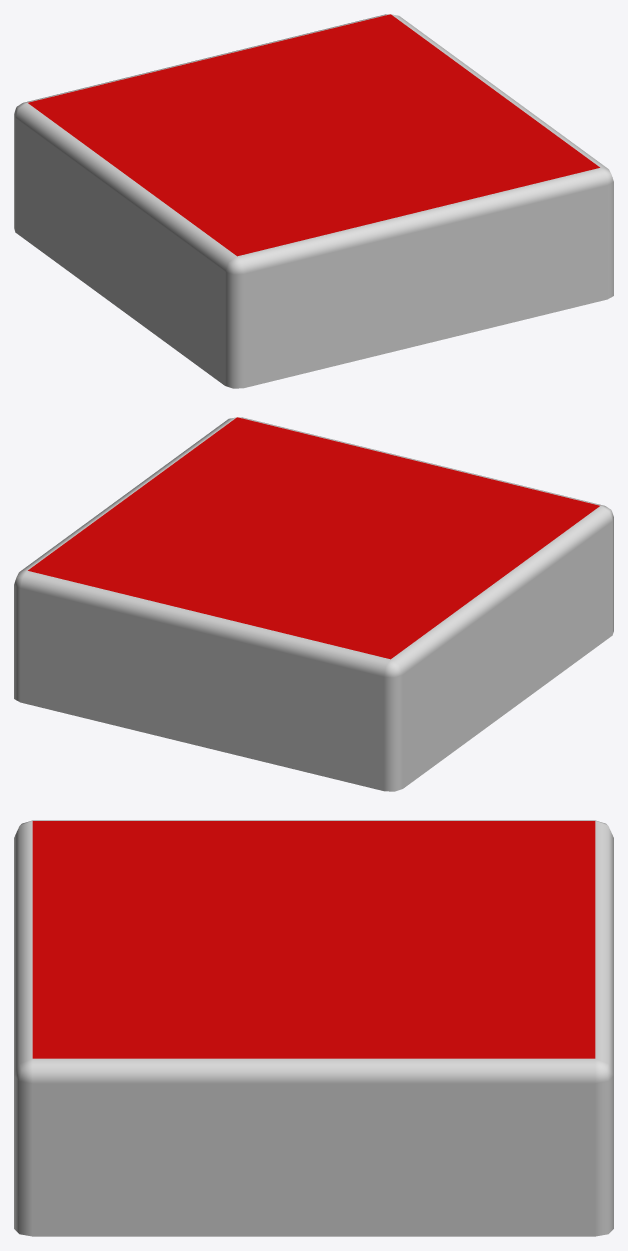
Rendered from GroundTile.fbx.
The picture shows the model from 3 angles, top to bottom: view 1: azimuth 30°, elevation 25°; view 2: azimuth 150°, elevation 25°; view 3: azimuth 270°, elevation 25°; orthographic projection. The views are drawn at different scales.
Parts seen in each view (by area): view 1: GroundTile; view 2: GroundTile; view 3: GroundTile.
Boxes of the visible parts, box(x1,y1,x2,y2) form: GroundTile: box(14, 14, 613, 388); GroundTile: box(14, 417, 613, 791); GroundTile: box(14, 820, 613, 1236).
Size of the model in its own units: 32 by 10 by 32.
